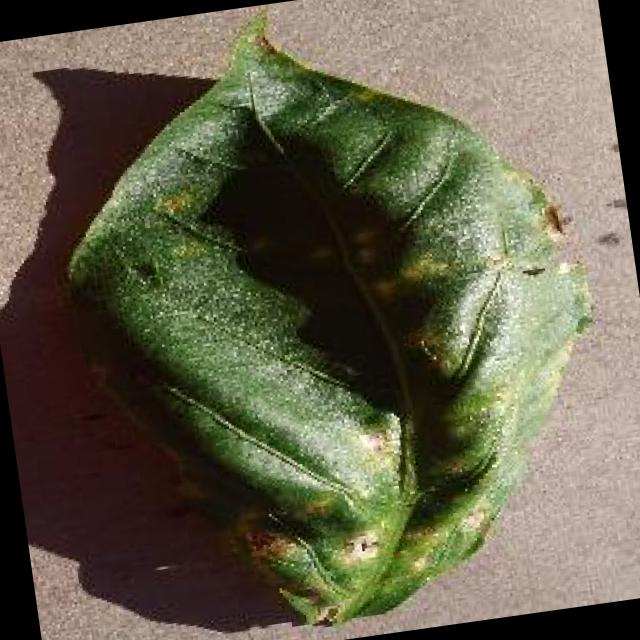Chilli_Bacterial_Spot: (28, 0, 635, 640), (238, 518, 302, 576), (148, 184, 200, 225), (338, 526, 384, 567), (452, 500, 494, 540), (124, 252, 161, 288), (536, 197, 568, 238), (307, 600, 343, 629), (156, 190, 189, 219), (516, 258, 548, 282)
